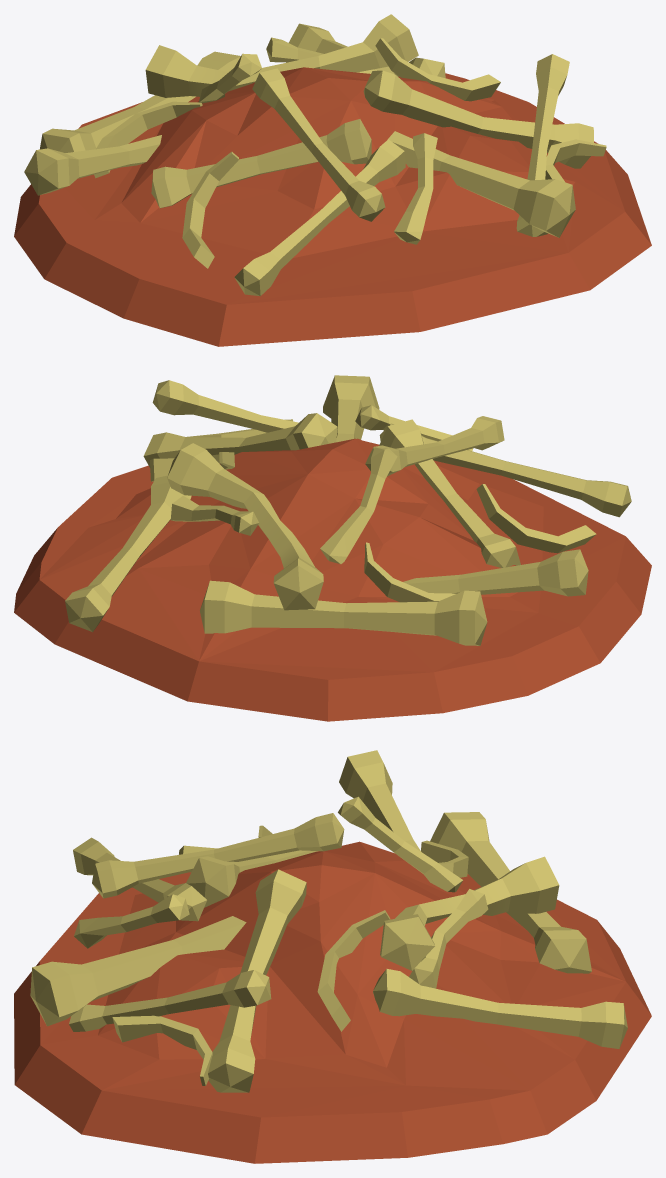
The model's file is SM_Env_BonePile_03.fbx.
3 views of the same model, one above another, from view 1: azimuth 30°, elevation 25°; view 2: azimuth 150°, elevation 25°; view 3: azimuth 270°, elevation 25° (orthographic). The views are drawn at different scales.
Parts seen in each view (by area): view 1: SM_Env_BonePile_03; view 2: SM_Env_BonePile_03; view 3: SM_Env_BonePile_03.
Part boxes in pixels (x1=…): SM_Env_BonePile_03: x1=14, y1=14, x2=651, y2=346; SM_Env_BonePile_03: x1=14, y1=375, x2=651, y2=721; SM_Env_BonePile_03: x1=14, y1=750, x2=651, y2=1163.
Size of the model in its own units: 2.61 by 0.7714 by 2.4.
